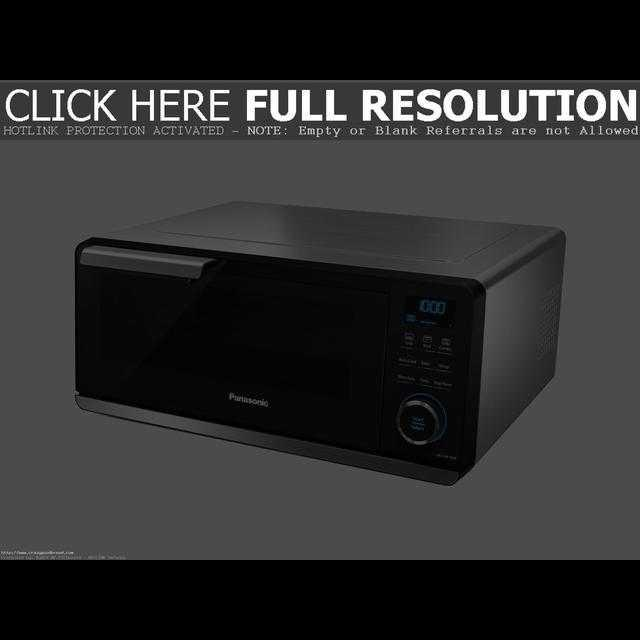Oven: (69, 233, 519, 475)
